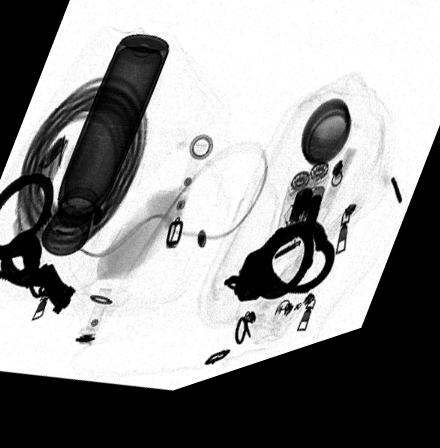HandCuffs: (0, 173, 77, 318), (223, 239, 334, 317)
